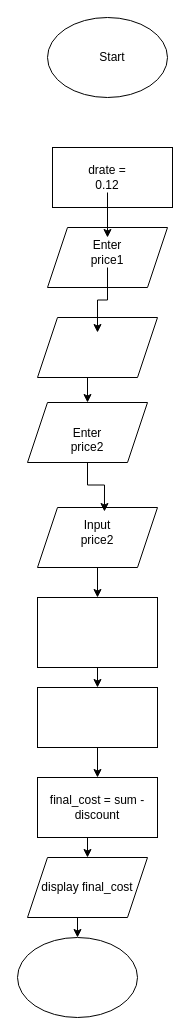
This 190x1035 diagram has some shape labels left out. Each missing label, with the centre of its shape:
"discount = sum * drate" belongs at point 97,717.
"END" belongs at point 77,977.
"Input price1" belongs at point 97,347.
"sum = price1 + price2" belongs at point 97,632.
